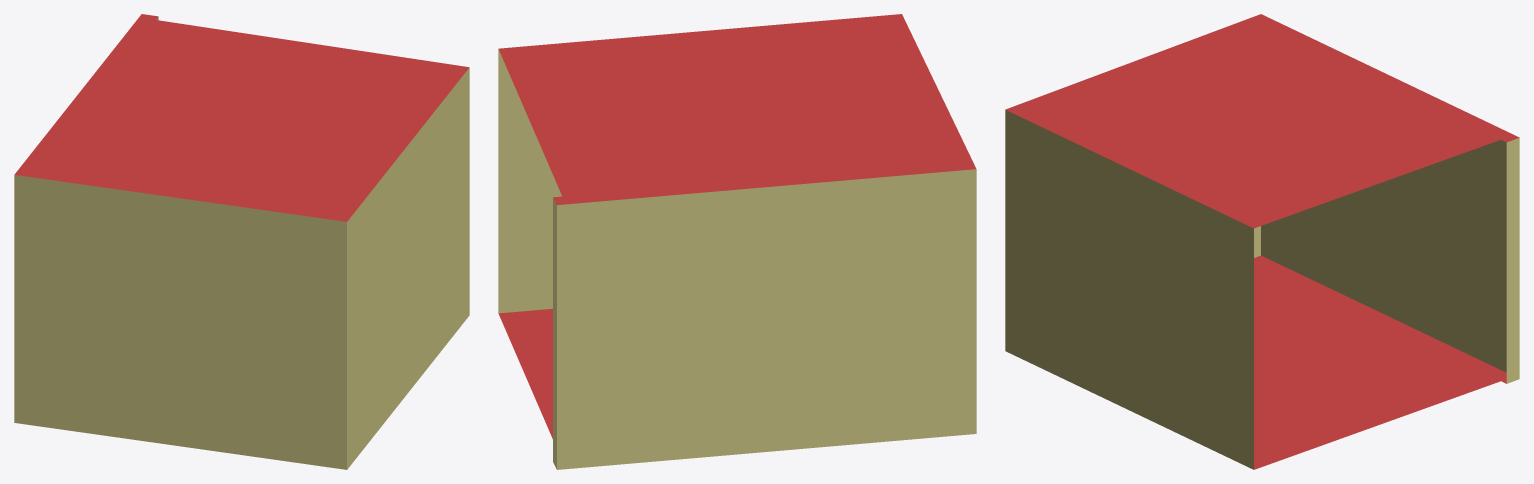
The picture shows the model from 3 angles, left to right: view 1: azimuth 30°, elevation 25°; view 2: azimuth 150°, elevation 25°; view 3: azimuth 270°, elevation 25°; orthographic projection. The views are drawn at different scales.
Parts seen in each view (by area): view 1: group_4, group_3; view 2: group_4, group_3, group_5; view 3: group_4, group_3, group_5.
Part boxes in pixels (x1,y1,x2,y2): group_4: (14,17,469,469); group_3: (14,14,469,221); group_4: (498,49,976,469); group_3: (498,14,976,204); group_5: (498,308,552,438); group_4: (1005,110,1519,469); group_3: (1005,14,1519,228); group_5: (1254,255,1506,469).
Size of the model in its own units: 10.47 by 10.61 by 5.49.
